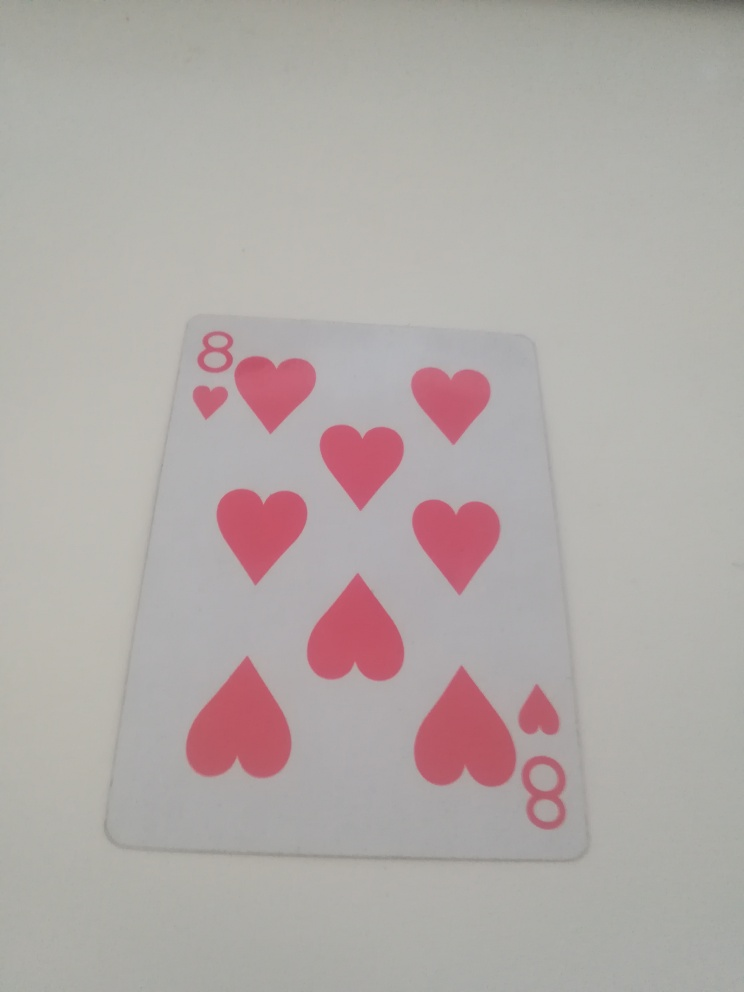8H: (179, 324, 239, 430)
